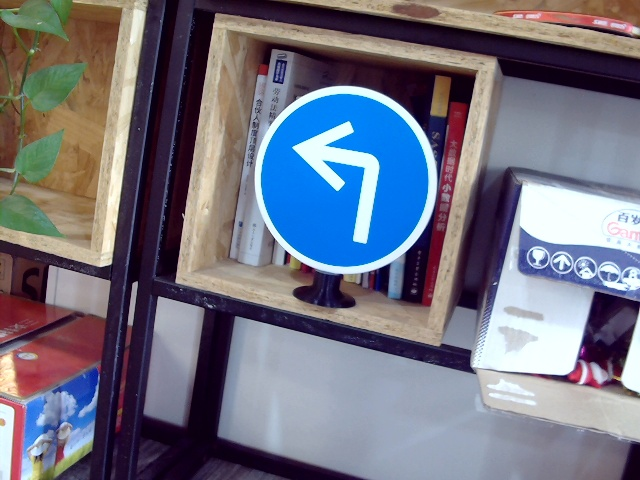turn_left: (290, 118, 379, 241)
